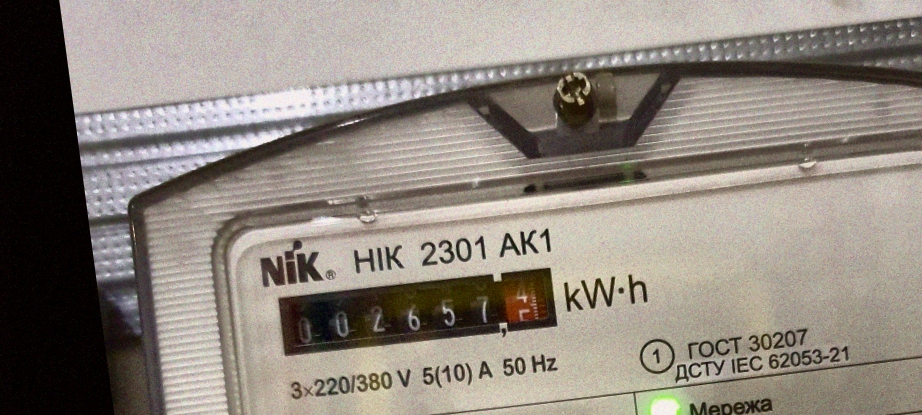0: (294, 313, 314, 344), (331, 306, 350, 338)
2: (367, 302, 387, 333)
4: (511, 276, 529, 304)
5: (438, 295, 458, 327), (516, 305, 533, 322)
6: (403, 301, 421, 332)
7: (474, 291, 493, 324)
screen: (266, 249, 570, 374)
